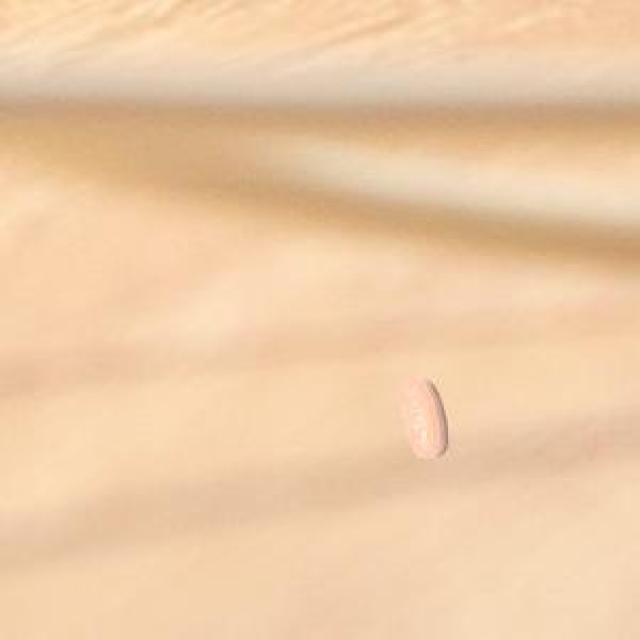Biogesic: (389, 367, 456, 477)
